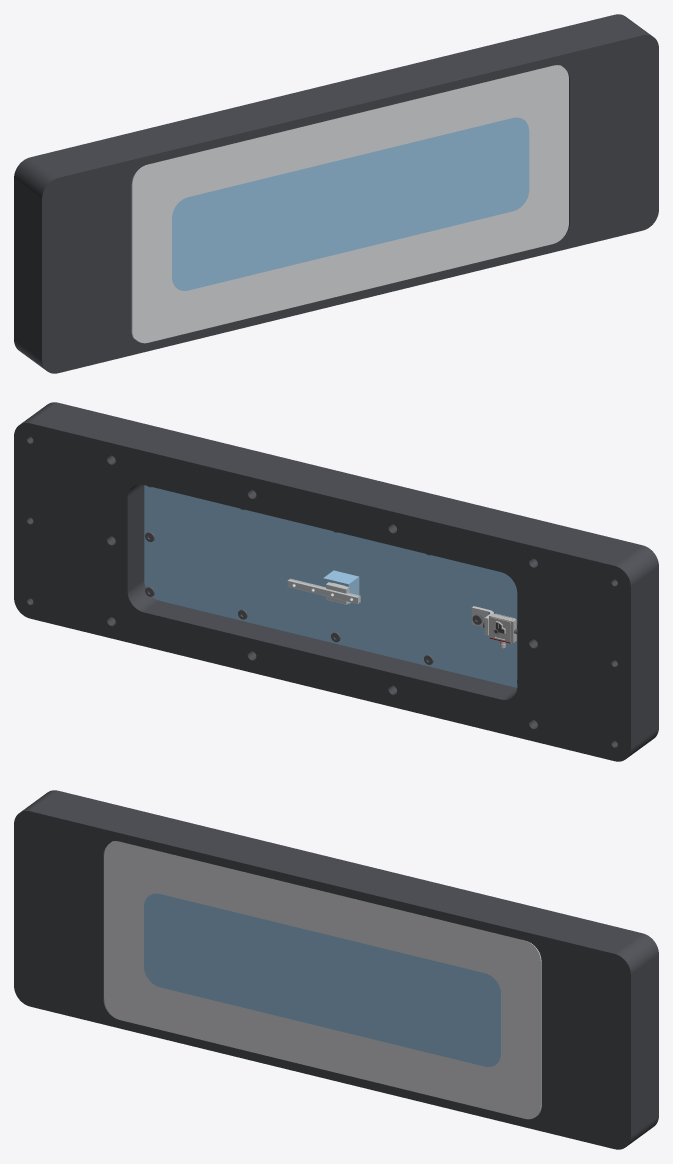
Rendered from shear-balance.glb.
3 views of the same model, one above another, from view 1: azimuth 30°, elevation 25°; view 2: azimuth 150°, elevation 25°; view 3: azimuth 330°, elevation 25° (orthographic).
Visible parts, largest first — view 1: id309, Frame, Panel; view 2: id309, Panel, 6709K124, Part 1; view 3: id309, Frame, Panel.
Part boxes in pixels (x1,y1,x2,y2): id309: (14,14,658,373); Frame: (131,65,568,343); Panel: (172,117,529,290); id309: (14,402,658,761); Panel: (144,485,517,687); 6709K124: (287,578,360,603); Part 1: (323,570,359,604); id309: (14,790,658,1149); Frame: (104,841,541,1119); Panel: (144,893,500,1066).
Bounding box in the file's own units: 0.4826 × 0.1461 × 0.0381.
